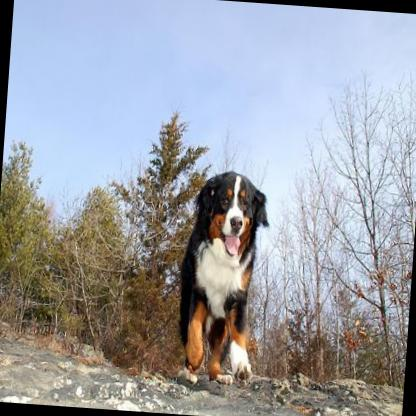Bernese_mountain_dog: (171, 166, 273, 384)
